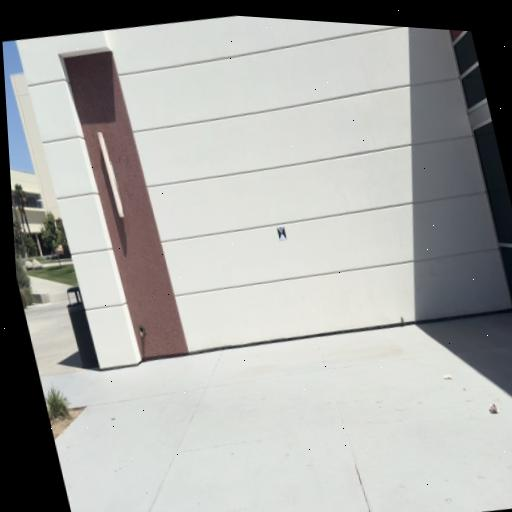target0: (276, 226, 286, 240)
